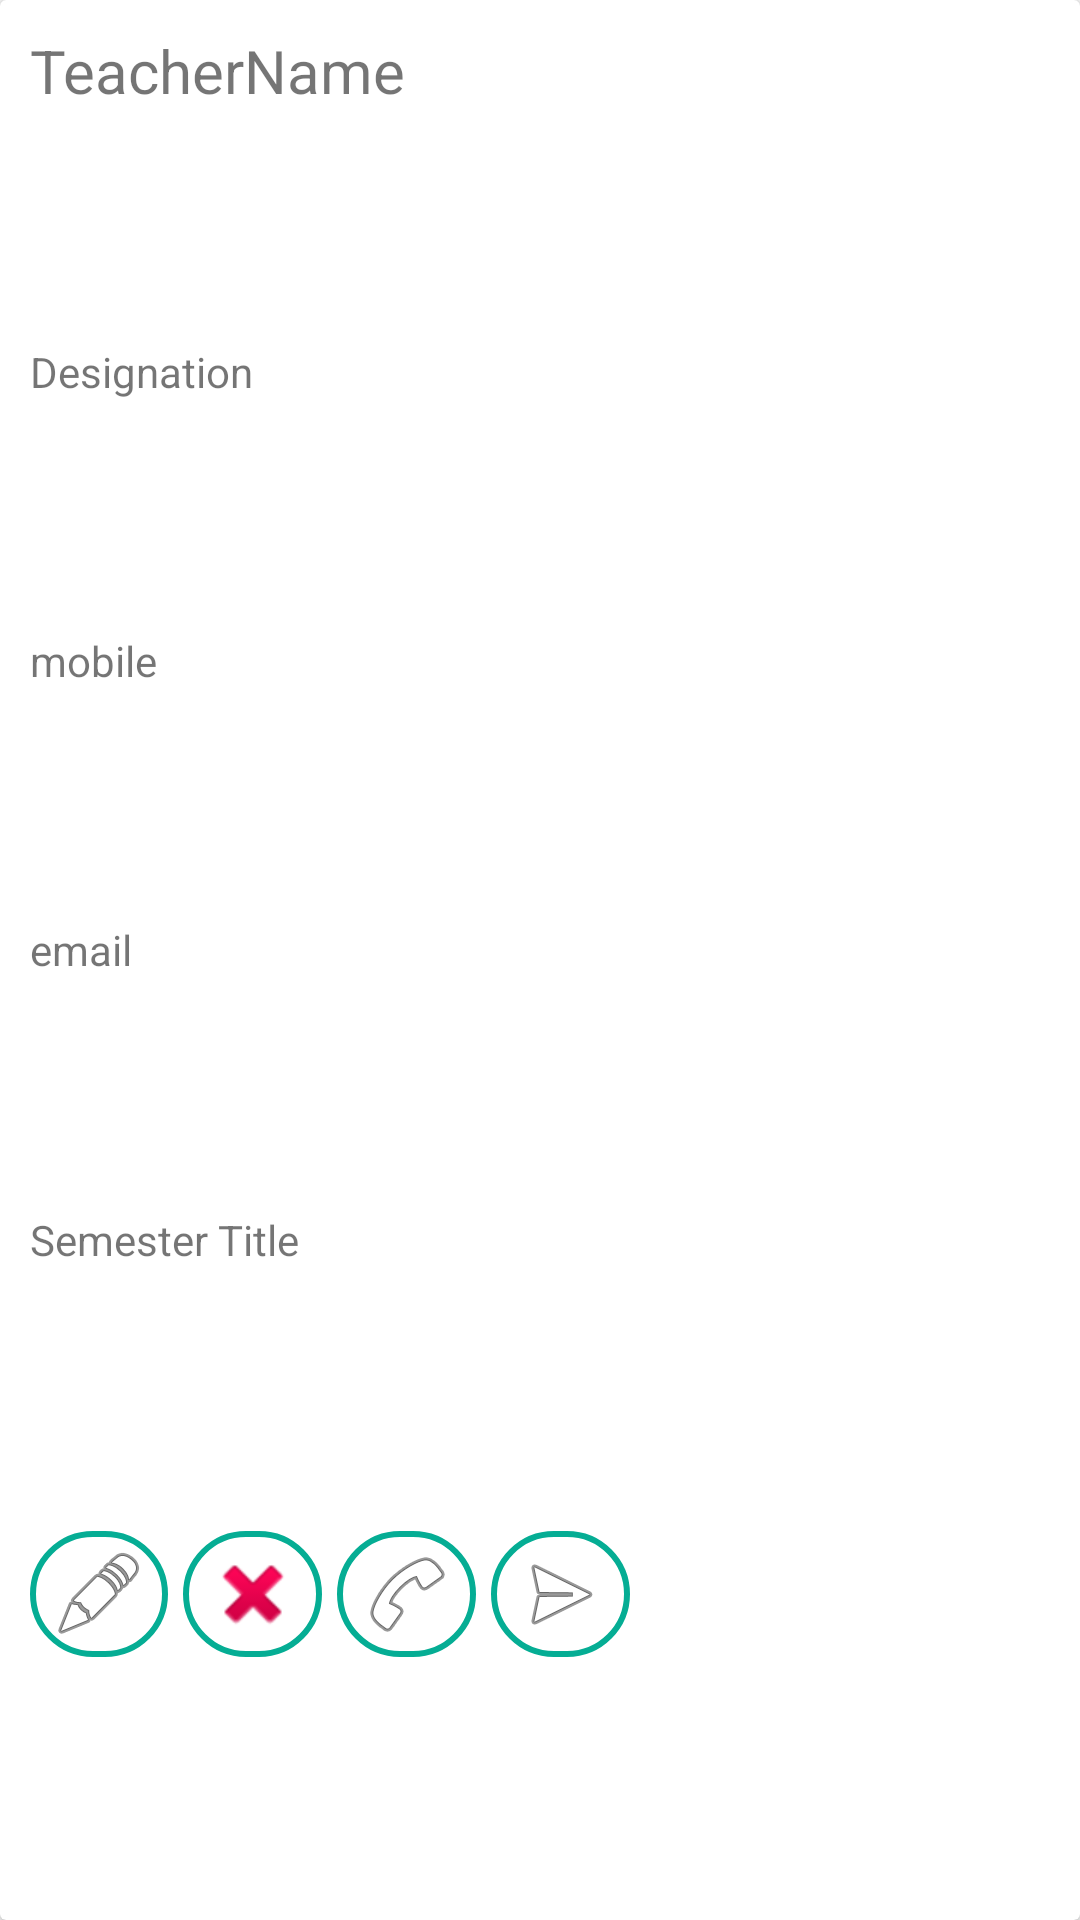

Screen size 1080×1920. Icon name, then its center in pixels as (x=x, y=y):
call: (x=406, y=1594)
delete: (x=252, y=1594)
edit: (x=99, y=1594)
send: (x=560, y=1594)
